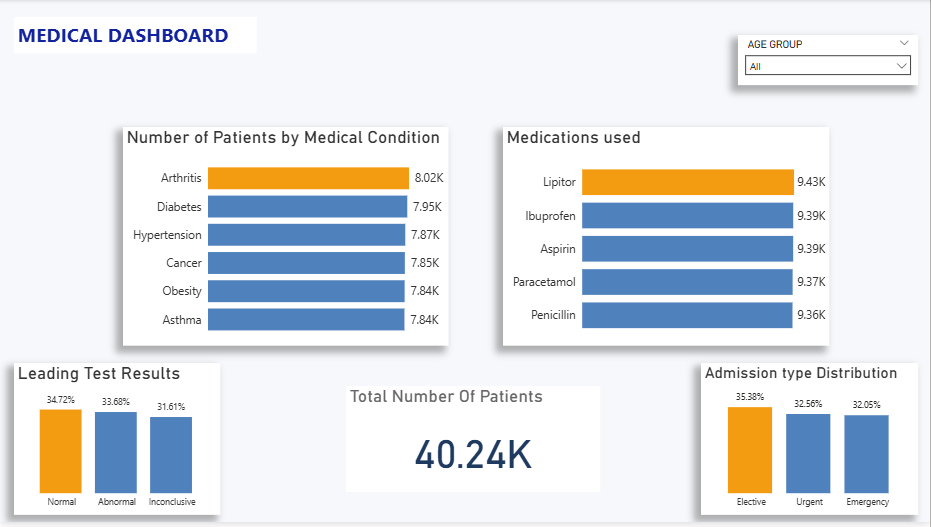

The dashboard page shown, as its layout file describes it:
{"tool":"powerbi","page":{"name":"Medical insight","canvas":[1280,720],"ordinal":1},"visuals":[{"type":"card","title":"Total Number Of Patients","fields":{"Values":["Count(healthcare_analysis healthcare_dashboards.Name)"]},"box":[476.2,532.4,350,145.9],"z":0},{"type":"clusteredBarChart","title":"Number of Patients by Medical Condition","fields":{"Y":["Count(healthcare_analysis healthcare_dashboards.Name)"],"Category":["healthcare_analysis healthcare_dashboards.medical_condition"]},"box":[169.3,176.2,448,301.4],"z":1000},{"type":"slicer","title":"Avg_Billing_amount_by_Insurance_providers","fields":{"Values":["healthcare_analysis healthcare_dashboards.Age_group"]},"box":[1015.7,48.9,247.7,68.8],"z":2000},{"type":"clusteredColumnChart","title":" Admission type Distribution","fields":{"Y":["CountNonNull(healthcare_analysis healthcare_dashboards.medical_condition)"],"Category":["healthcare_analysis healthcare_dashboards.Admission_Type"]},"box":[964.8,501,298.7,209.2],"z":3000},{"type":"columnChart","title":"Leading Test Results","fields":{"Category":["healthcare_analysis healthcare_dashboards.Test_Results"],"Y":["CountNonNull(healthcare_analysis healthcare_dashboards.Name)"]},"box":[19.3,500.7,283.5,209.2],"z":4000},{"type":"clusteredBarChart","title":"Medications used","fields":{"Y":["Count(healthcare_analysis healthcare_dashboards.Name)"],"Category":["healthcare_analysis healthcare_dashboards.Medication"]},"box":[692.3,176.2,448.7,301.4],"z":5000},{"type":"textbox","box":[19.3,24.8,334.5,49.5],"z":6000}]}

Visuals, with their boxes in screenshot pixels (x1, y1, x2, y2), scaled from the page's 1280x720 canvas onto the 931x527 screenshot:
"Total Number Of Patients" card: (x1=346, y1=390, x2=601, y2=496)
"Number of Patients by Medical Condition" clusteredBarChart: (x1=123, y1=129, x2=449, y2=350)
"Avg_Billing_amount_by_Insurance_providers" slicer: (x1=739, y1=36, x2=919, y2=86)
" Admission type Distribution" clusteredColumnChart: (x1=702, y1=367, x2=919, y2=520)
"Leading Test Results" columnChart: (x1=14, y1=366, x2=220, y2=520)
"Medications used" clusteredBarChart: (x1=504, y1=129, x2=830, y2=350)
textbox: (x1=14, y1=18, x2=257, y2=54)
